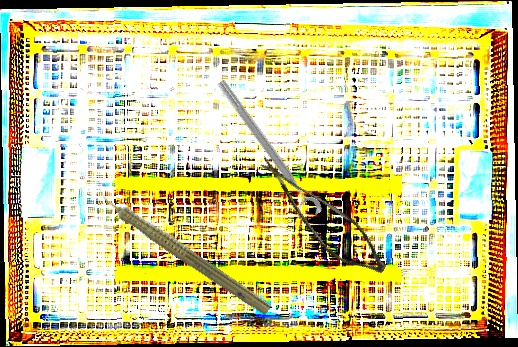Fixation Ring: (205, 76, 325, 226)
Handpiece: (84, 178, 277, 319)
Micro Scissor: (237, 155, 403, 283)
